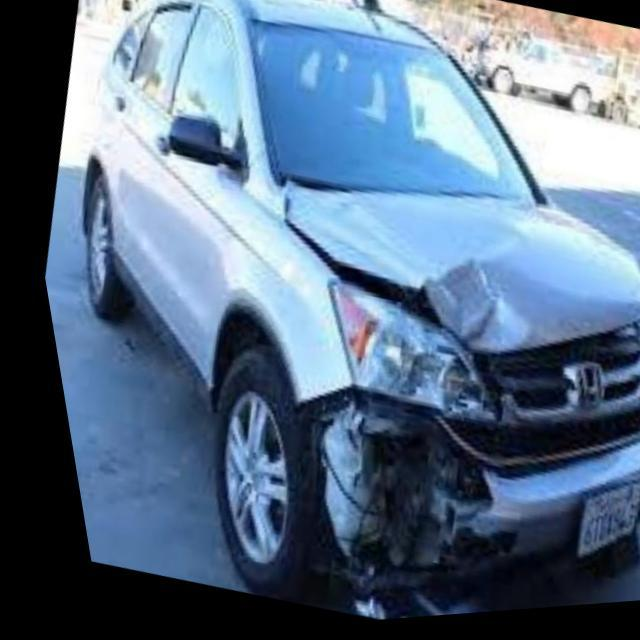dent: (281, 187, 517, 357)
dislocated part: (279, 191, 460, 359)
no part: (276, 396, 466, 609)
